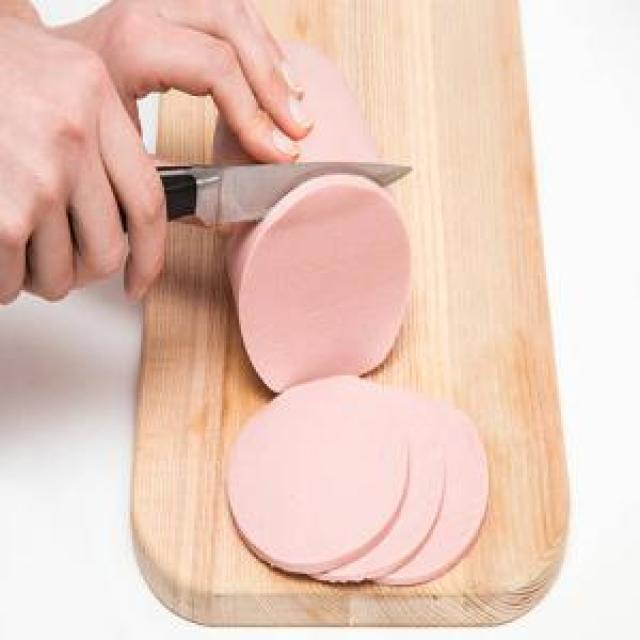knife: (130, 149, 463, 221)
